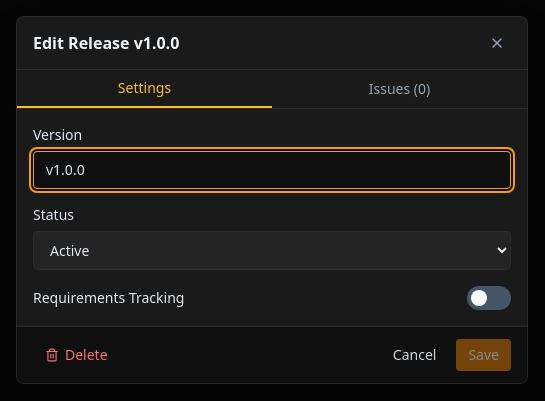
Test: EditReleaseDialog › should detect status change in hasChanges
Change status to shipped
Select "Shipped" in the dropdown at (272, 250), box [33,231,511,270]
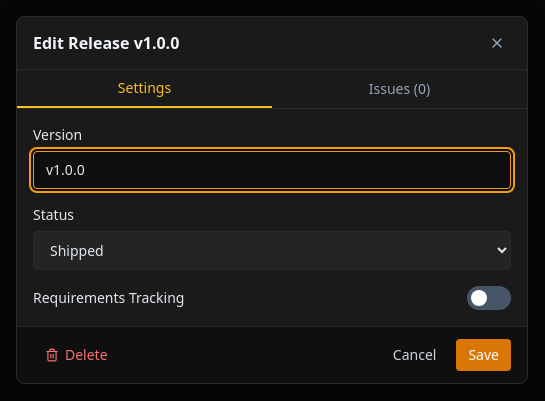
Check: the button "Save" is enabled, box [456,339,511,371]
